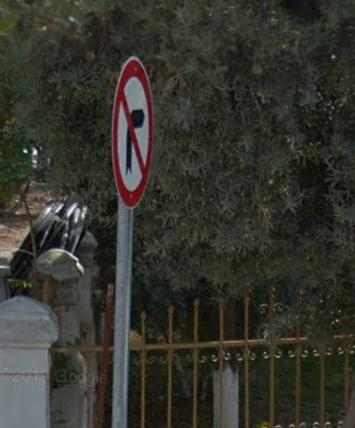rightturnsareforbidden: (118, 56, 154, 209)
